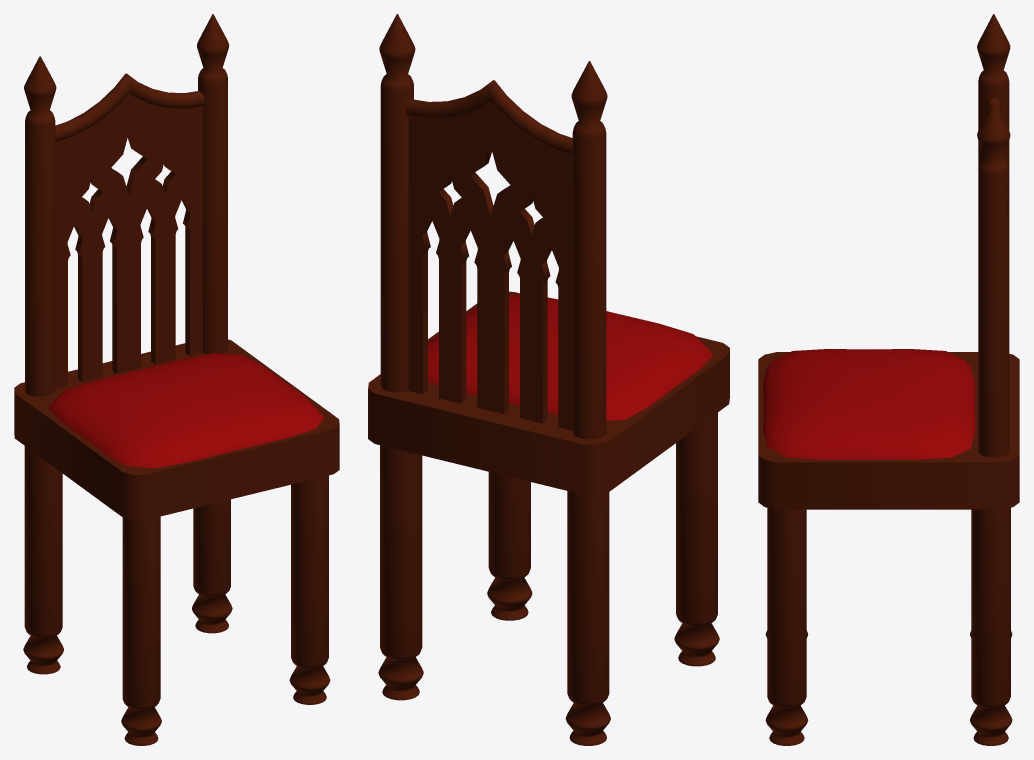
The model's file is OtraSillaMSv2.fbx.
The picture shows the model from 3 angles, left to right: view 1: azimuth 30°, elevation 25°; view 2: azimuth 150°, elevation 25°; view 3: azimuth 270°, elevation 25°; orthographic projection. The views are drawn at different scales.
Parts seen in each view (by area): view 1: Sphere001; view 2: Sphere001; view 3: Sphere001.
Part boxes in pixels (x1,y1,x2,y2): Sphere001: (14,14,339,745); Sphere001: (368,14,729,745); Sphere001: (758,14,1019,745).
Bounding box in the file's own units: 20 × 53.89 × 20.
